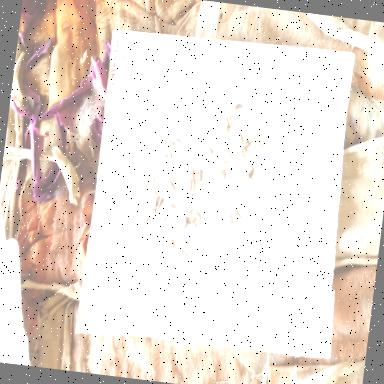pbw: (150, 196, 160, 219), (252, 124, 262, 145), (231, 101, 243, 114), (155, 195, 164, 212), (180, 237, 190, 252), (138, 142, 150, 154), (188, 174, 196, 192), (245, 160, 255, 174), (186, 190, 196, 204), (166, 179, 176, 192), (232, 206, 242, 219), (168, 236, 176, 252), (226, 112, 234, 128), (181, 216, 189, 232), (179, 211, 188, 225), (164, 146, 173, 160), (178, 249, 189, 260), (243, 172, 254, 183), (256, 139, 266, 151), (224, 147, 233, 160), (226, 212, 234, 226), (219, 167, 226, 183), (165, 139, 175, 150), (188, 220, 198, 231), (170, 276, 180, 287), (166, 200, 176, 211), (193, 210, 202, 222), (237, 131, 244, 146), (186, 175, 192, 192), (160, 213, 169, 224), (205, 145, 214, 156), (195, 170, 202, 184), (149, 174, 156, 188), (201, 184, 208, 198), (189, 166, 196, 180), (223, 115, 230, 129), (178, 114, 186, 126), (142, 212, 148, 228), (222, 124, 230, 136), (243, 138, 250, 151), (161, 154, 170, 164), (198, 96, 206, 107), (173, 136, 181, 146), (238, 147, 249, 154), (139, 184, 148, 192), (244, 166, 250, 178), (190, 216, 196, 228), (216, 166, 224, 175), (186, 206, 193, 216), (238, 152, 246, 160), (220, 158, 228, 166), (151, 192, 160, 199), (219, 170, 224, 180)
